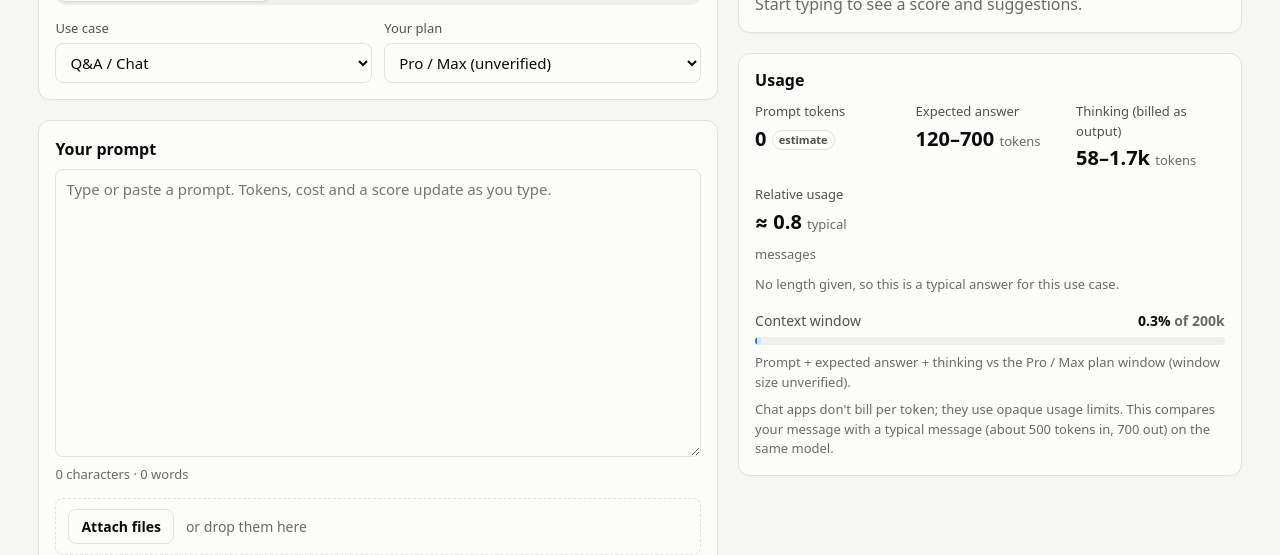
Conversation so far › accepts a custom token amount
Replace the text in the text box labelled "Your prompt" with "make it shorter". click: (378, 312)
box: [55, 168, 701, 456]
(page scrolled)
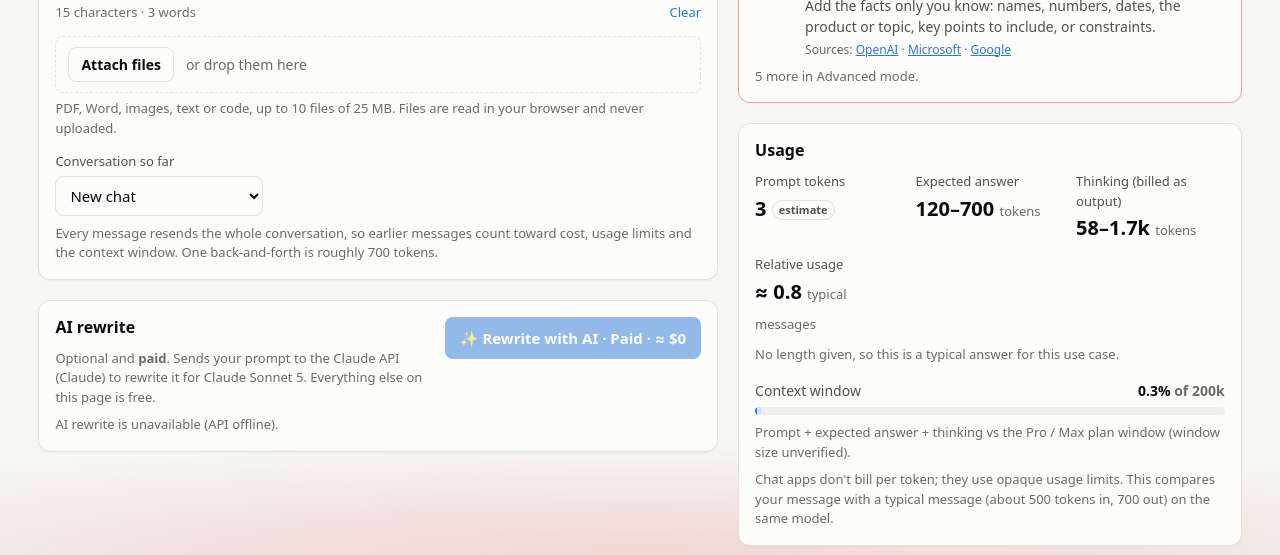
Select "Custom amount…" in the dropdown labelled "Conversation so far". click: (159, 196)
box: [55, 176, 263, 216]
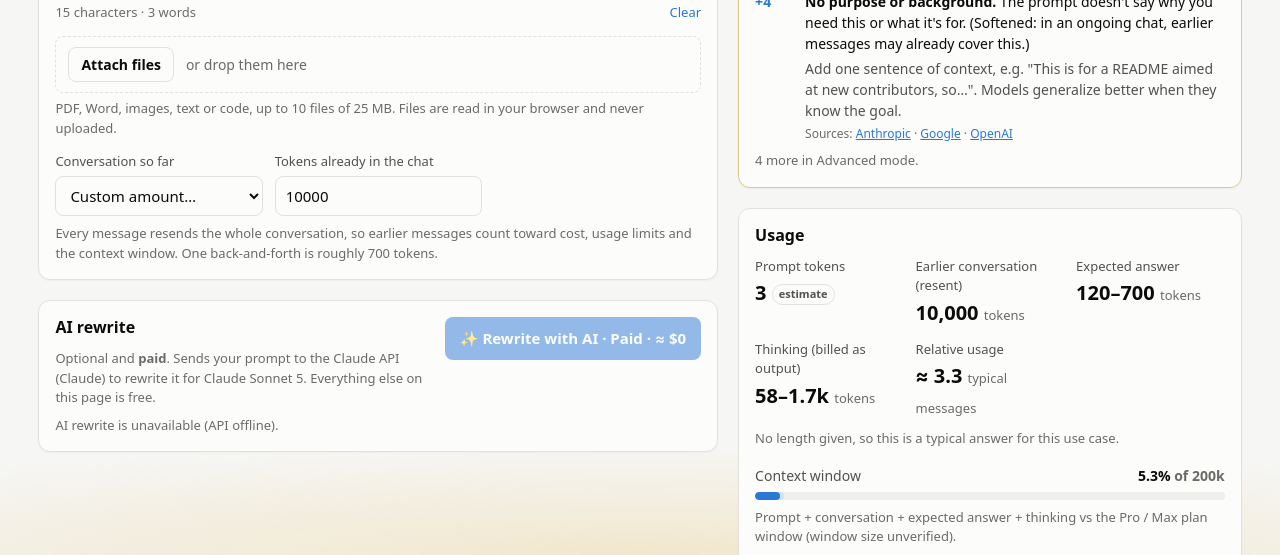
Replace the text in the number field labelled "Tokens already in the chat" with "12345". click: (378, 196)
box: [275, 176, 482, 216]
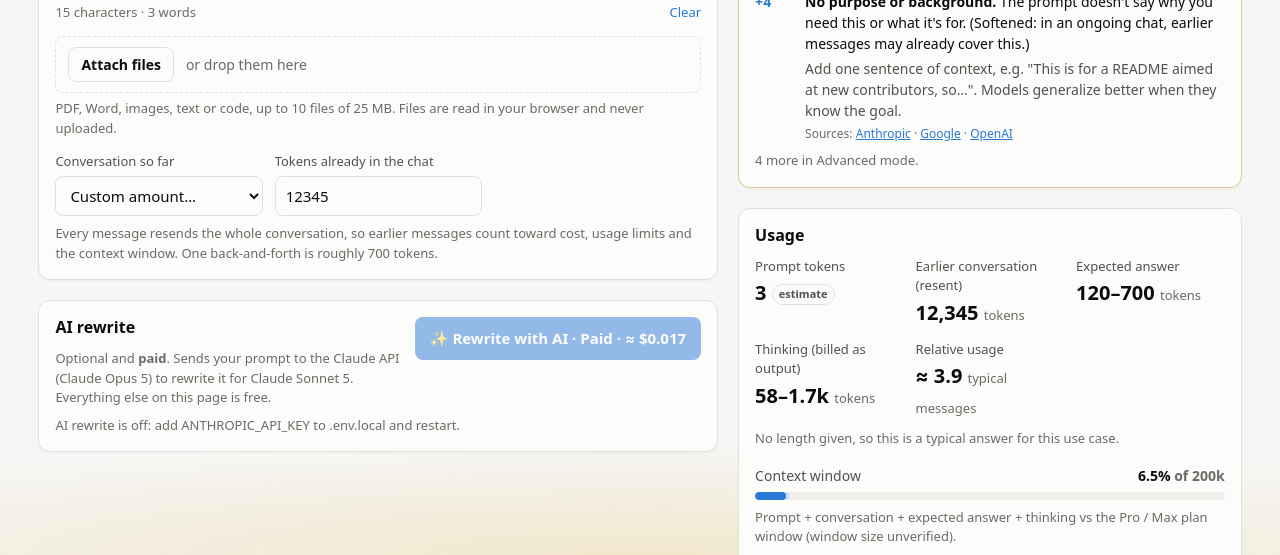
Expected: the text "12,345" is shown, [916, 298, 978, 326]
